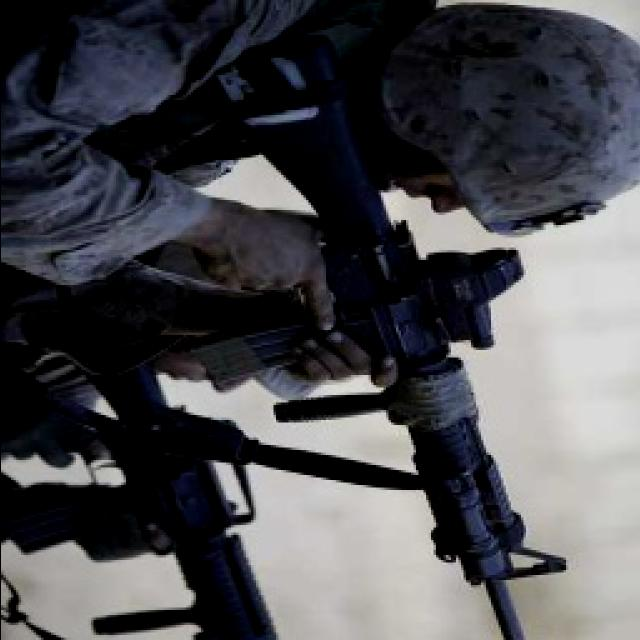long weapon: (278, 228, 607, 635), (86, 391, 321, 632)
